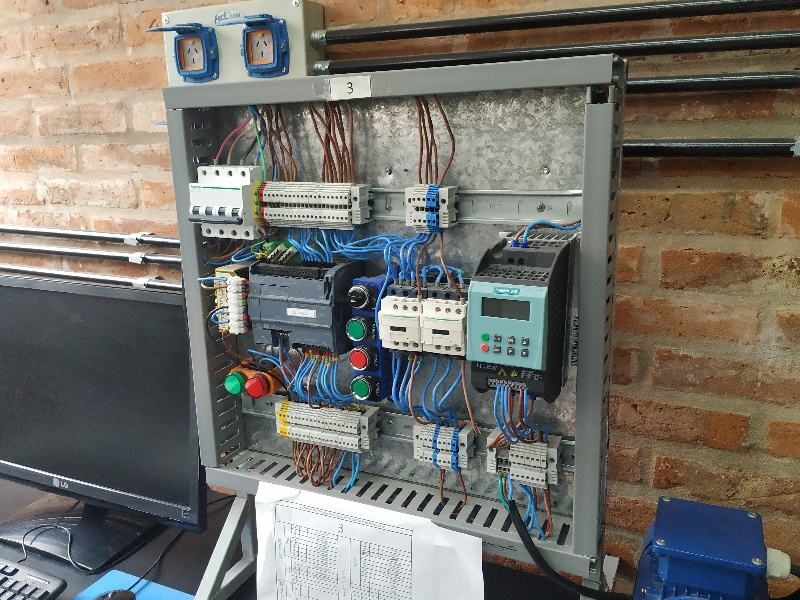Tablero 3: (171, 95, 595, 547)
